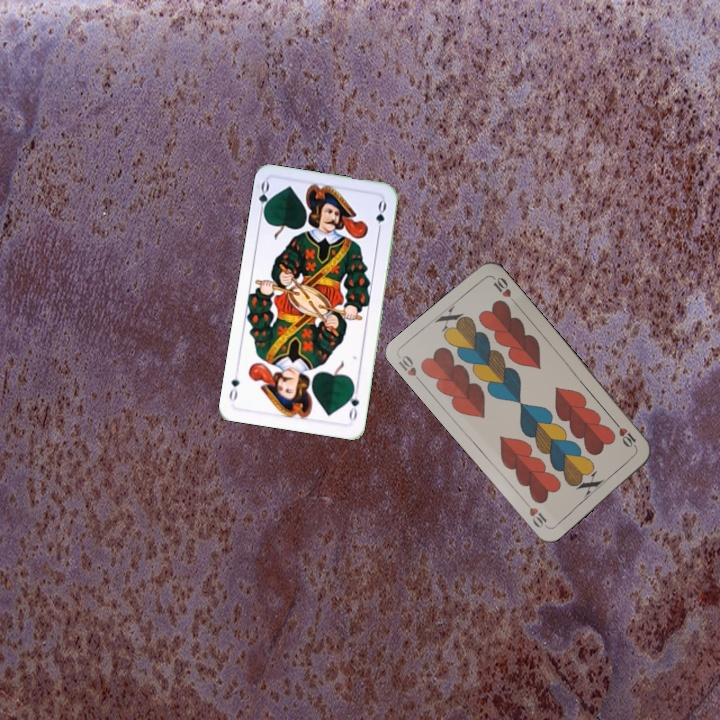GO: (254, 178, 274, 219), (344, 383, 362, 423)
H10: (394, 351, 425, 387), (610, 417, 640, 452)
